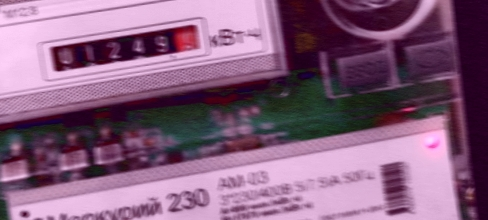0: (57, 46, 72, 67)
1: (82, 43, 94, 63)
2: (106, 40, 121, 62)
4: (131, 37, 144, 57)
7: (178, 26, 192, 46)
9: (154, 34, 169, 56)
screen: (30, 18, 209, 82)
